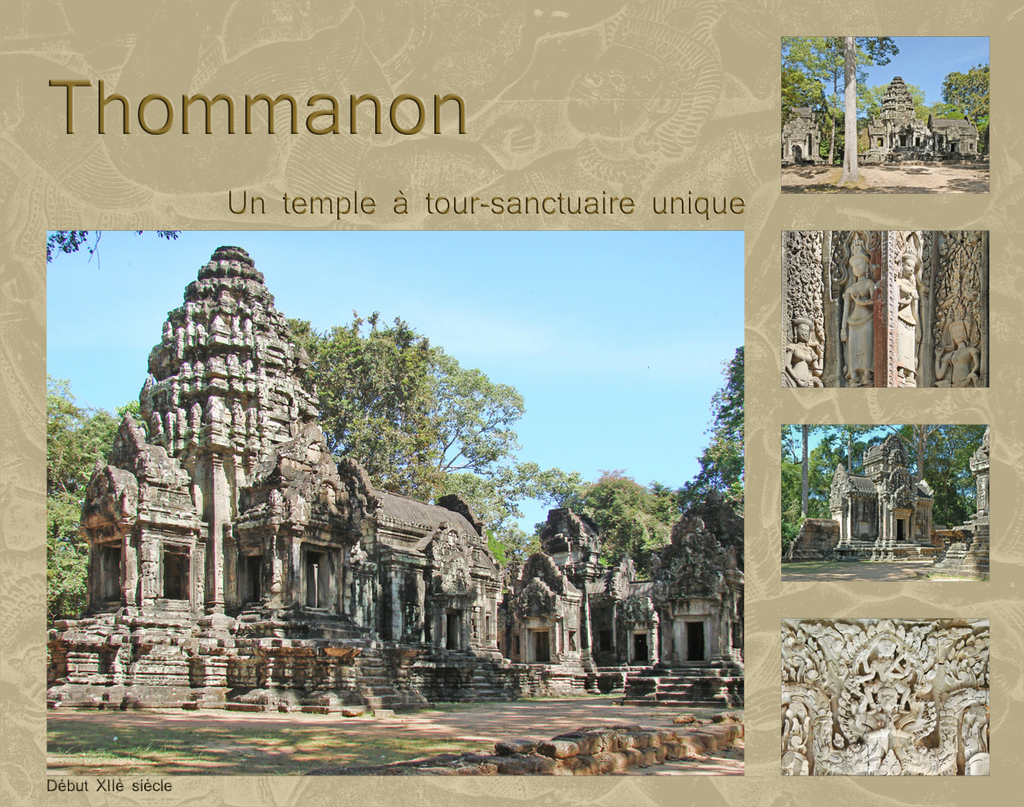Tree: (301, 319, 532, 505), (42, 378, 145, 660), (530, 468, 710, 573), (780, 425, 879, 553), (685, 342, 744, 519), (827, 33, 903, 166), (780, 76, 854, 163), (927, 424, 988, 524), (44, 230, 185, 269), (938, 65, 990, 146), (885, 423, 946, 484), (781, 34, 836, 92), (800, 425, 811, 526)
